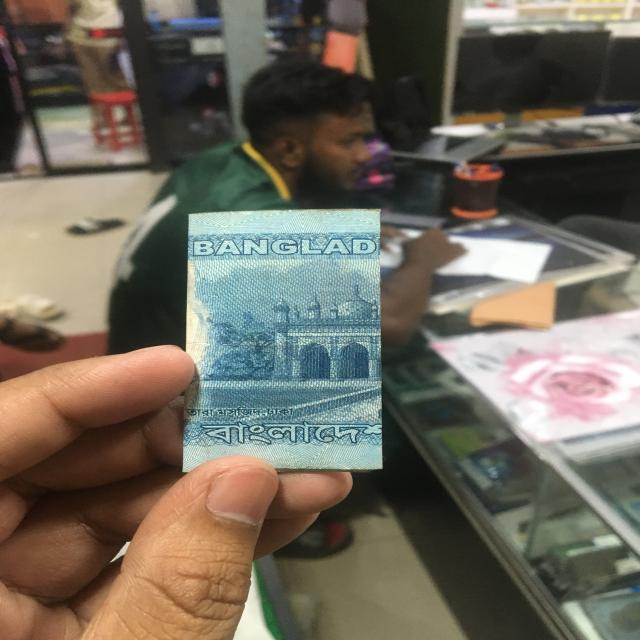Taka: (187, 211, 376, 463)
